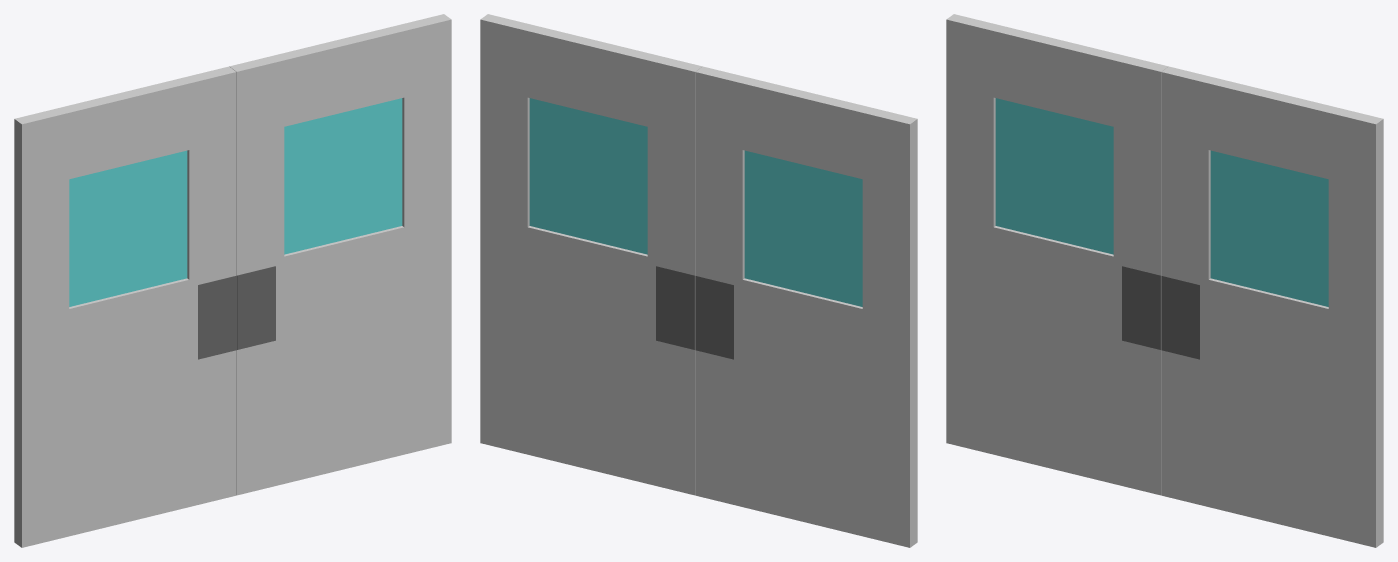
The model's file is h_doubleDoor1.fbx.
3 views of the same model, side by side, from view 1: azimuth 30°, elevation 25°; view 2: azimuth 150°, elevation 25°; view 3: azimuth 330°, elevation 25° (orthographic).
Parts seen in each view (by area): view 1: Door1, Door2; view 2: Door1, Door2; view 3: Door2, Door1.
Part boxes in pixels (x1,y1,x2,y2): Door1: [14, 66, 236, 547]; Door2: [229, 14, 451, 495]; Door1: [695, 66, 917, 547]; Door2: [480, 14, 702, 495]; Door2: [1161, 66, 1383, 547]; Door1: [946, 14, 1168, 495].
Size of the model in its own units: 276 by 260 by 8.72.
